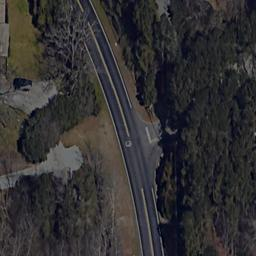Double Solid Yellow Line: (82, 2, 129, 134), (140, 186, 155, 254)
Stop Line: (145, 127, 151, 142)
